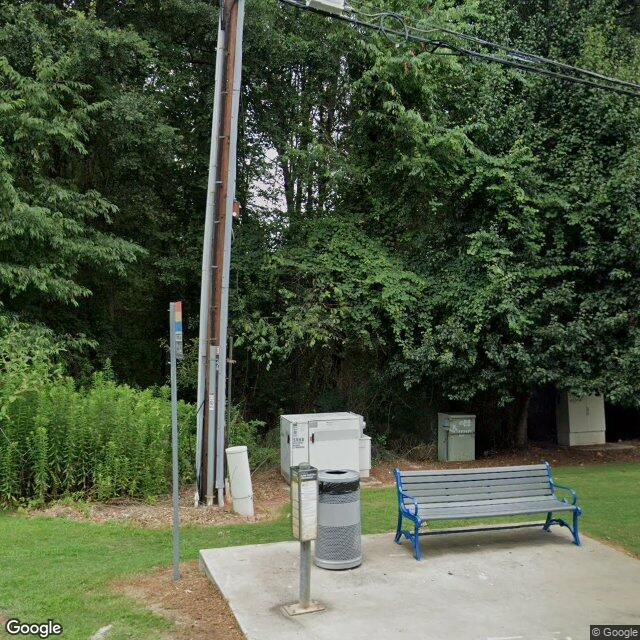seating: (387, 458, 583, 564)
trash_can: (314, 468, 362, 570)
